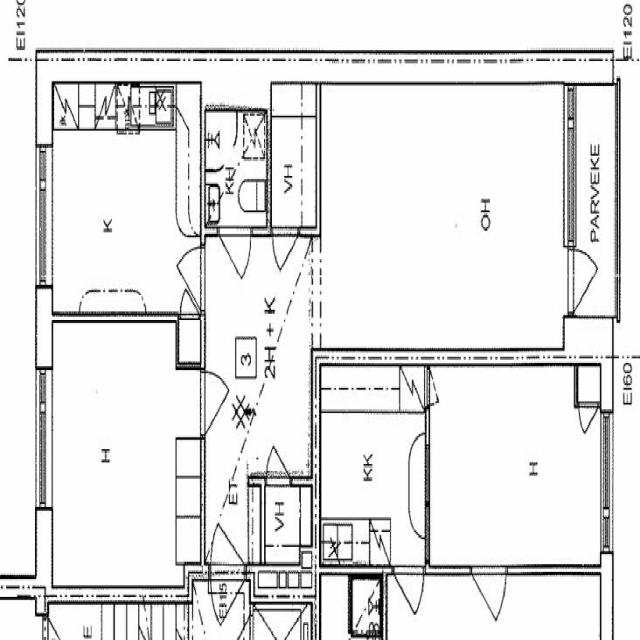door: (210, 494, 246, 580), (568, 248, 607, 314), (168, 247, 205, 310), (202, 372, 238, 435), (218, 227, 250, 295), (272, 227, 298, 284), (267, 432, 291, 486), (180, 276, 200, 320)
